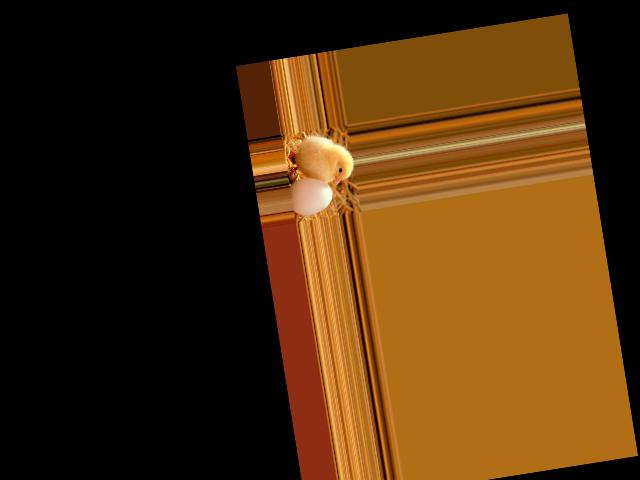egg: (287, 174, 335, 217)
